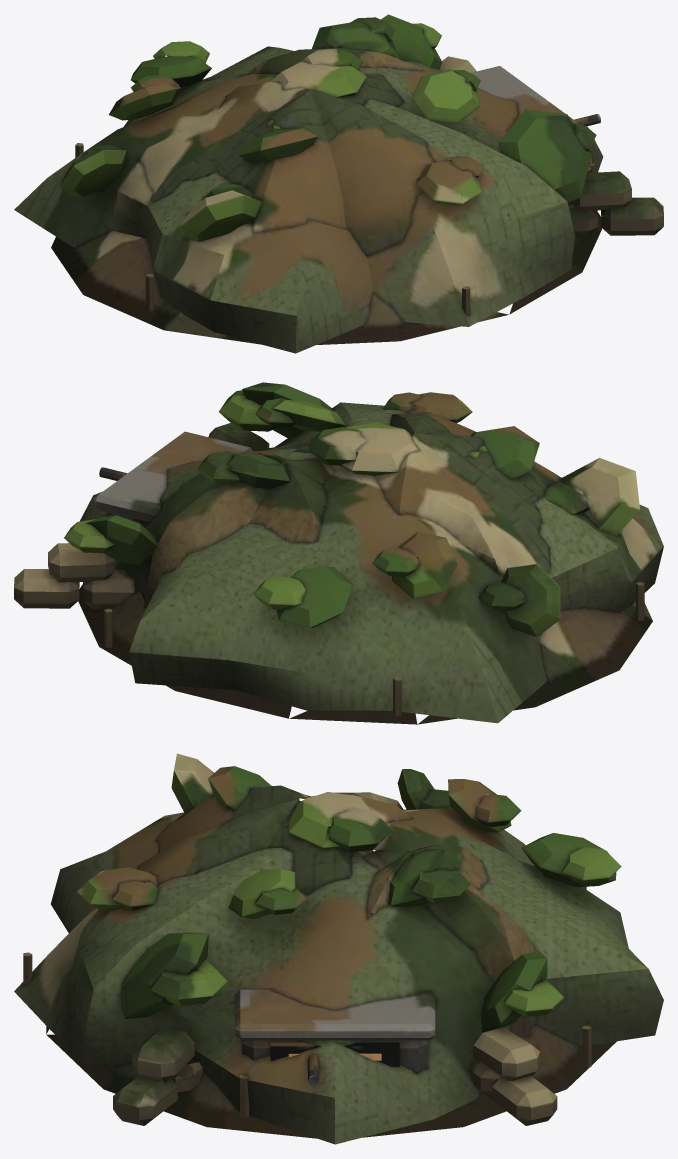
Rendered from hbox.allies.glb.
3 views of the same model, one above another, from view 1: azimuth 30°, elevation 25°; view 2: azimuth 150°, elevation 25°; view 3: azimuth 270°, elevation 25° (orthographic). The views are drawn at different scales.
Parts seen in each view (by area): view 1: root_mesh; view 2: root_mesh; view 3: root_mesh.
Part boxes in pixels (x1=…): root_mesh: x1=14, y1=14, x2=663, y2=353; root_mesh: x1=14, y1=382, x2=663, y2=724; root_mesh: x1=14, y1=753, x2=663, y2=1144.
Size of the model in its own units: 0.956 by 0.3019 by 0.9082.
1 material, 1 textured.
